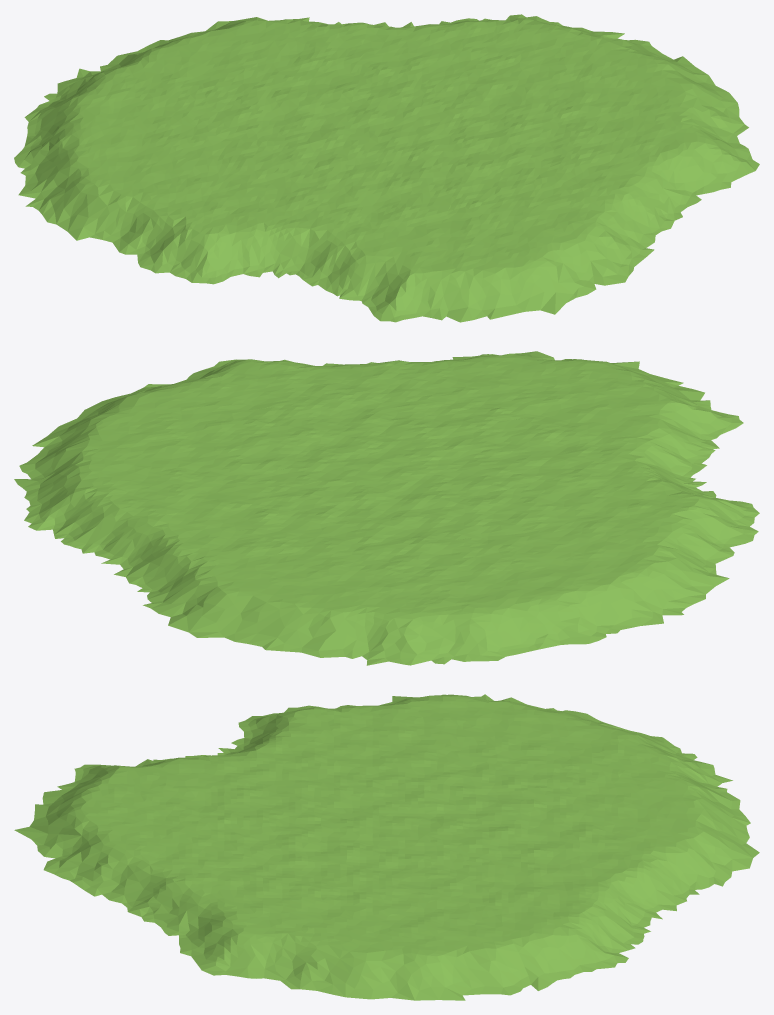
The model's file is MT_Island_H_a_01.fbx.
The picture shows the model from 3 angles, top to bottom: view 1: azimuth 30°, elevation 25°; view 2: azimuth 150°, elevation 25°; view 3: azimuth 270°, elevation 25°; orthographic projection. The views are drawn at different scales.
Parts seen in each view (by area): view 1: MT_Island_H_a_01; view 2: MT_Island_H_a_01; view 3: MT_Island_H_a_01.
Boxes of the visible parts, box(x1,y1,x2,y2) form: MT_Island_H_a_01: box(14, 14, 759, 322); MT_Island_H_a_01: box(14, 351, 759, 665); MT_Island_H_a_01: box(14, 694, 759, 1000).
Bounding box in the file's own units: 44212 × 1668 × 45502.
